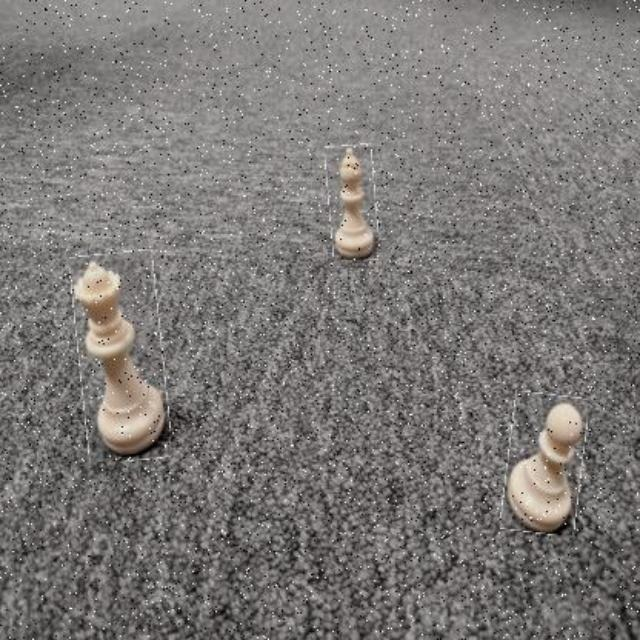white-bishop: (327, 144, 377, 260)
white-pawn: (504, 393, 585, 534)
white-queen: (76, 251, 168, 461)
